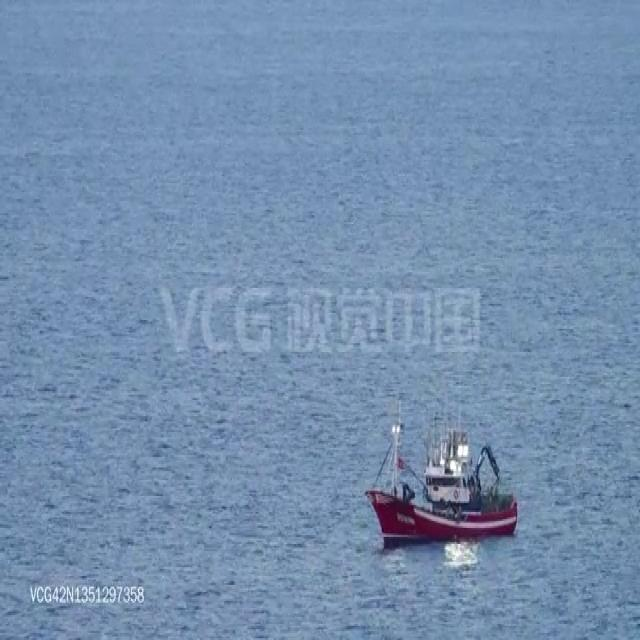fishing boat: (362, 390, 517, 546)
